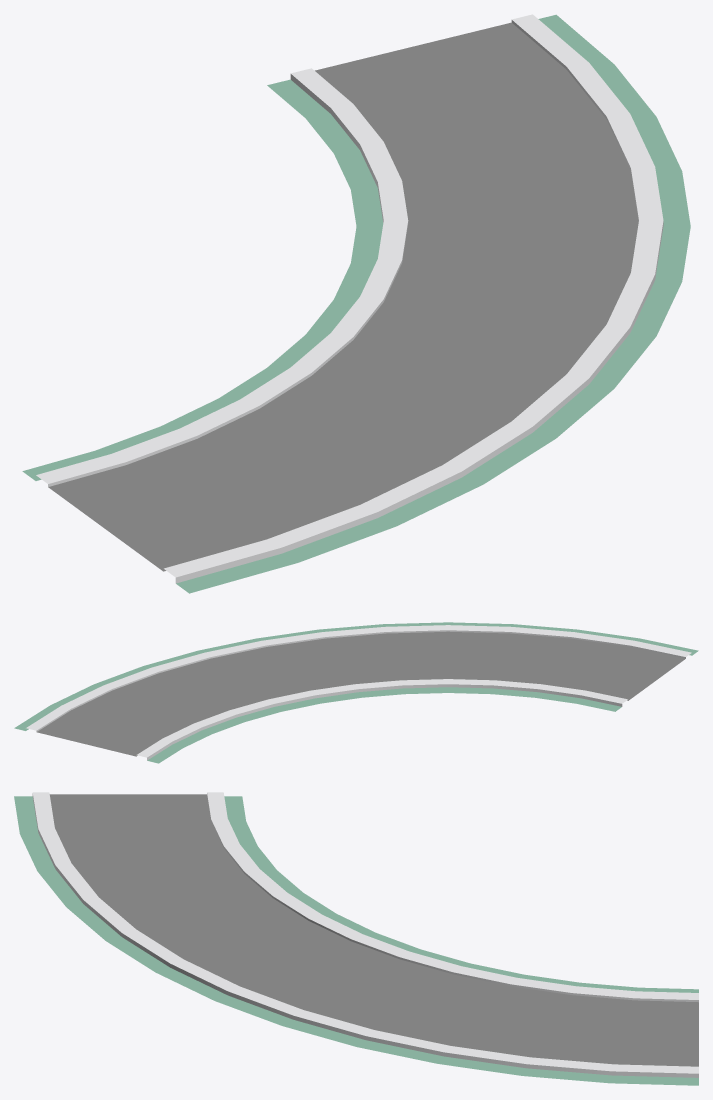
File: roadCornerLarger.glb
3 views of the same model, one above another, from view 1: azimuth 30°, elevation 25°; view 2: azimuth 150°, elevation 25°; view 3: azimuth 270°, elevation 25° (orthographic). The views are drawn at different scales.
Parts seen in each view (by area): view 1: roadCornerLarger; view 2: roadCornerLarger; view 3: roadCornerLarger.
Boxes of the visible parts, x1,y1,x2,y2 form: roadCornerLarger: (22, 14, 690, 593); roadCornerLarger: (14, 622, 698, 763); roadCornerLarger: (14, 792, 698, 1085).
Size of the model in its own units: 3 by 0.02 by 3.
